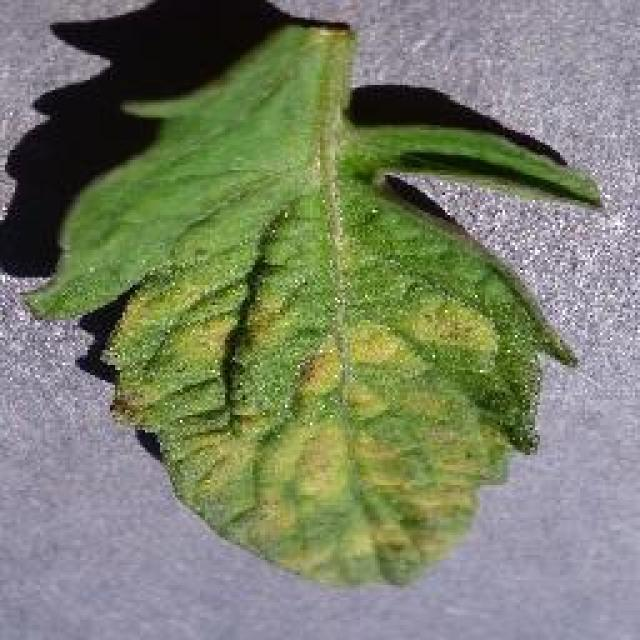Tomato___Leaf_Mold: (25, 22, 600, 582)
